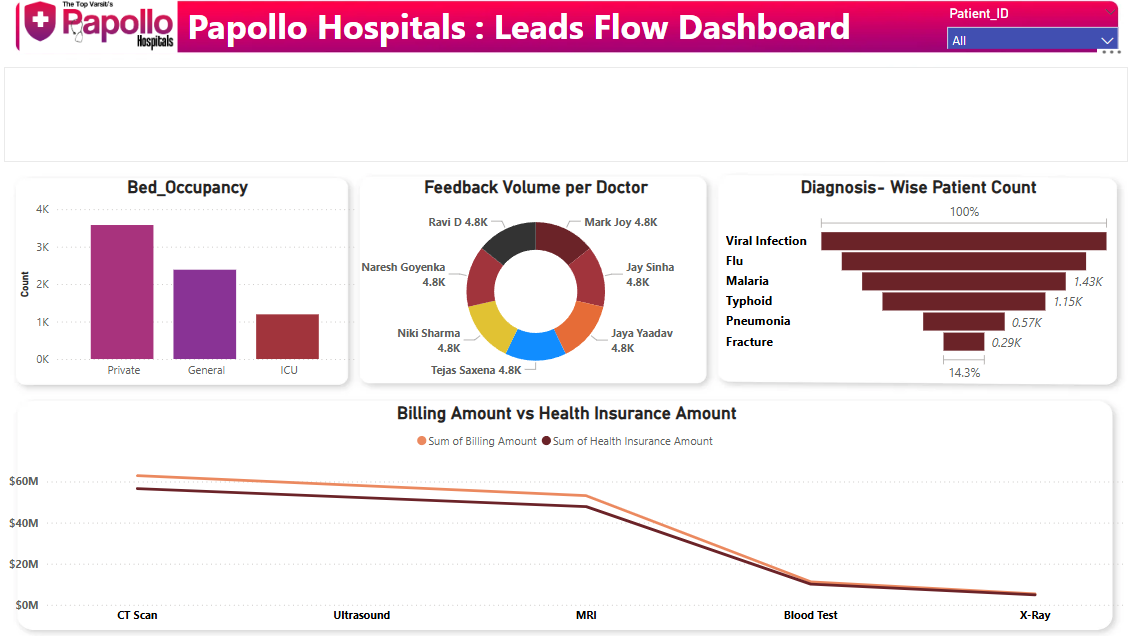

Layout of this report page (visuals, bound fields, positions):
{"tool":"powerbi","page":{"name":"Papollo Insight","canvas":[1280,720],"ordinal":2},"visuals":[{"type":"image","box":[7.3,6.4,237.3,70.9],"z":0},{"type":"textbox","box":[218.6,12.9,1061.4,64.3],"z":1000},{"type":"slicer","fields":{"Values":["Sheet1.Admit_Date"]},"box":[431.4,111.4,250,58.6],"z":2000},{"type":"textbox","box":[954.3,490,151.4,37.1],"z":3000},{"type":"columnChart","title":"Bed_Occupancy ","fields":{"Category":["Sheet1.Bed_Occupancy"],"Y":["Sheet1.Bed_Occupancy"]},"box":[34.3,208.6,378.6,230],"z":4000},{"type":"donutChart","title":"Feedback Volume per Doctor","fields":{"Category":["Sheet1.Doctor"],"Y":["Sheet1.Feedback"]},"box":[412.9,208.6,385.7,230],"z":5000},{"type":"funnel","title":"Diagnosis- Wise Patient Count","fields":{"Category":["Sheet1.Diagnosis"],"Y":["Sheet1.Diagnosis"]},"box":[810,208.6,432.9,230],"z":6000},{"type":"lineChart","title":"Billing Amount vs Health Insurance Amount","fields":{"Y":["Sheet1.Billing Amount","Sheet1.Health Insurance Amount"],"Category":["Sheet1.Test"]},"box":[21.4,457.1,1235.7,251.4],"z":7000},{"type":"shape","box":[21.4,87.1,1234.3,104.3],"z":8000},{"type":"slicer","fields":{"Values":["Sheet1.Patient_ID"]},"box":[1047.1,15.7,208.6,52.9],"z":9000}]}

Visuals, with their boxes in screenshot pixels (x1, y1, x2, y2), scaled from the page's 1280x720 canvas onto the 1132x636 screenshot:
image: bbox(6, 6, 216, 68)
textbox: bbox(193, 11, 1131, 68)
slicer - Sheet1.Admit_Date: bbox(382, 98, 603, 150)
textbox: bbox(844, 433, 978, 466)
"Bed_Occupancy " columnChart: bbox(30, 184, 365, 387)
"Feedback Volume per Doctor" donutChart: bbox(365, 184, 706, 387)
"Diagnosis- Wise Patient Count" funnel: bbox(716, 184, 1099, 387)
"Billing Amount vs Health Insurance Amount" lineChart: bbox(19, 404, 1112, 626)
shape: bbox(19, 77, 1111, 169)
slicer - Sheet1.Patient_ID: bbox(926, 14, 1111, 61)
